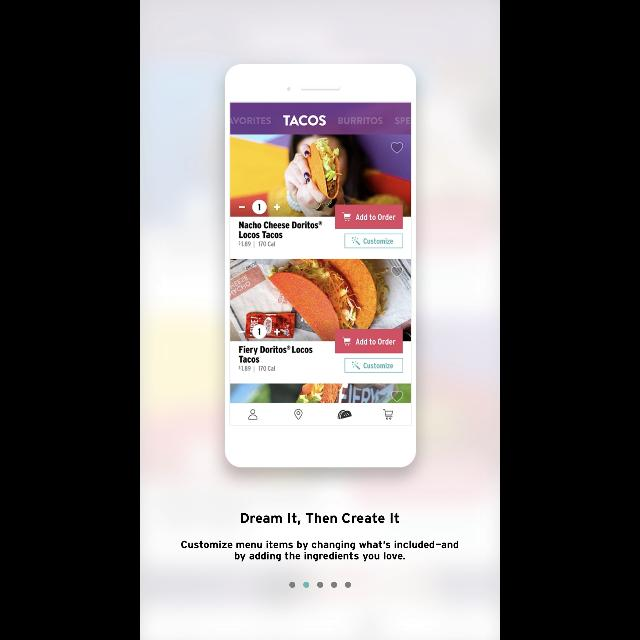image: (226, 64, 417, 468)
pageindicator: (289, 582, 351, 588)
text: (182, 540, 458, 562), (241, 513, 399, 525)
